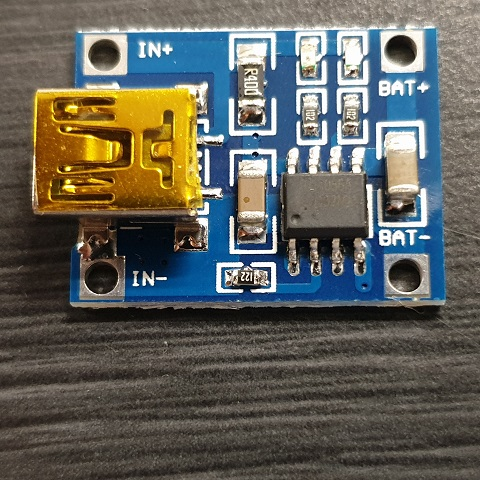batt+: (376, 30, 422, 71)
batt-: (384, 254, 421, 294)
charge: (294, 34, 324, 84)
done: (328, 34, 364, 82)
rprog: (216, 262, 268, 291)
usb: (33, 86, 196, 214)
